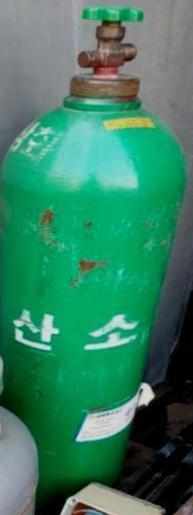cylinder: (1, 1, 193, 515)
